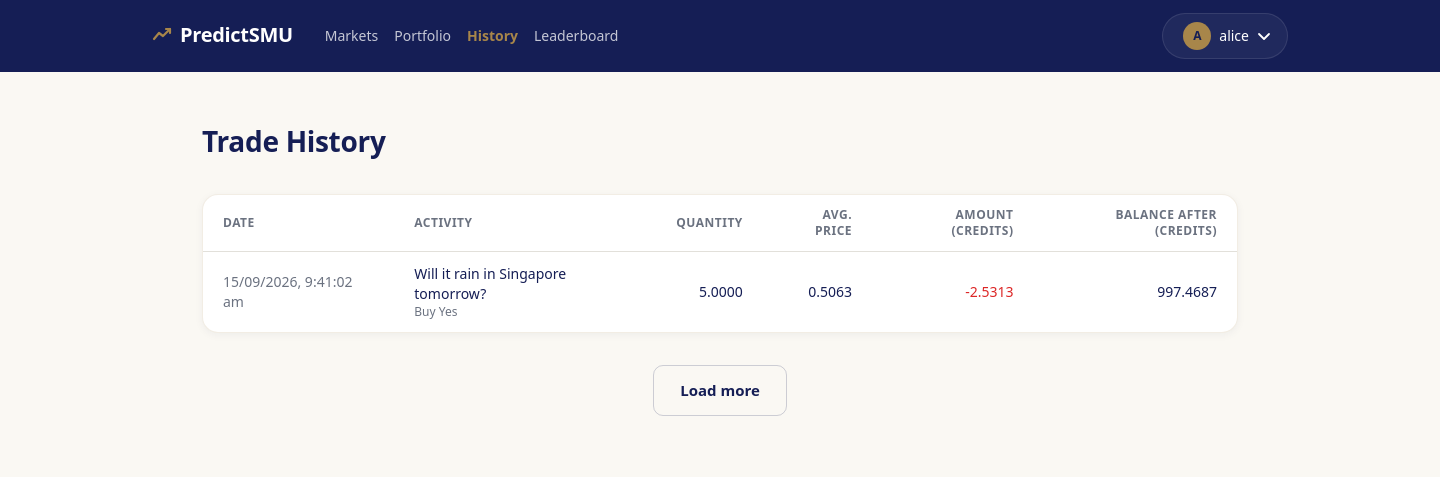
Test: TradeHistoryPage › keeps the rows already shown when loading more fails, and loads them on a retry
Expected: the link "Will it rain in Singapore tomorrow?" is shown, [414,264,566,303]
Click the button "Load more". click: (720, 390)
box: [653,365,787,416]
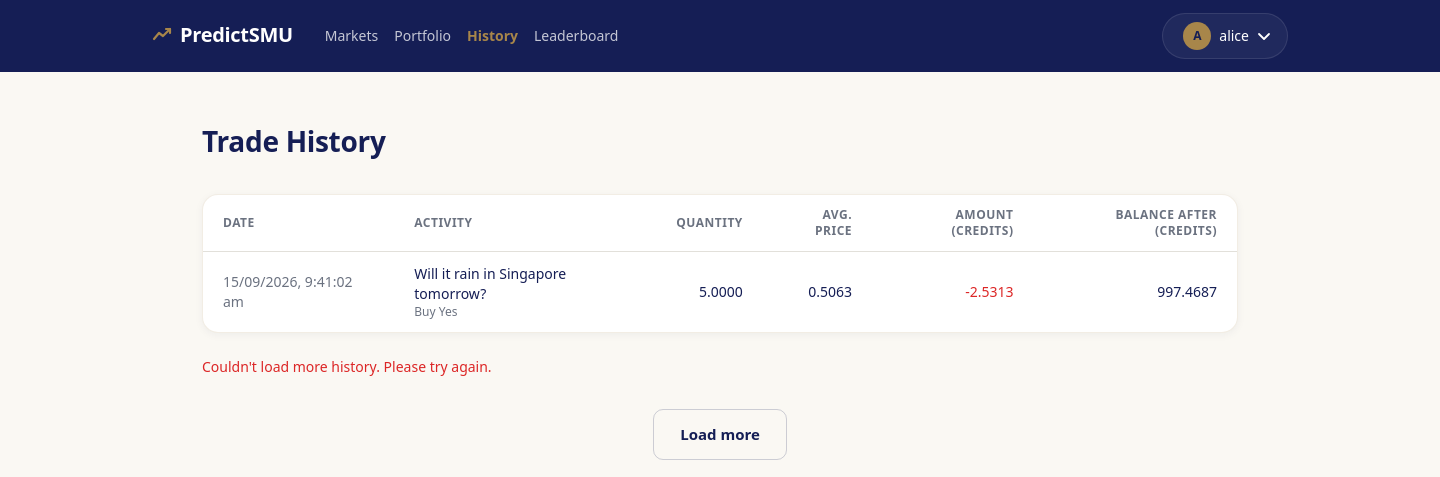
Expected: the link "Will it rain in Singapore tomorrow?" is shown, [414,264,566,303]
Expected: the message shows "Couldn't load more history", [202,357,492,376]
Click the button "Load more". click: (720, 434)
box: [653,409,787,460]
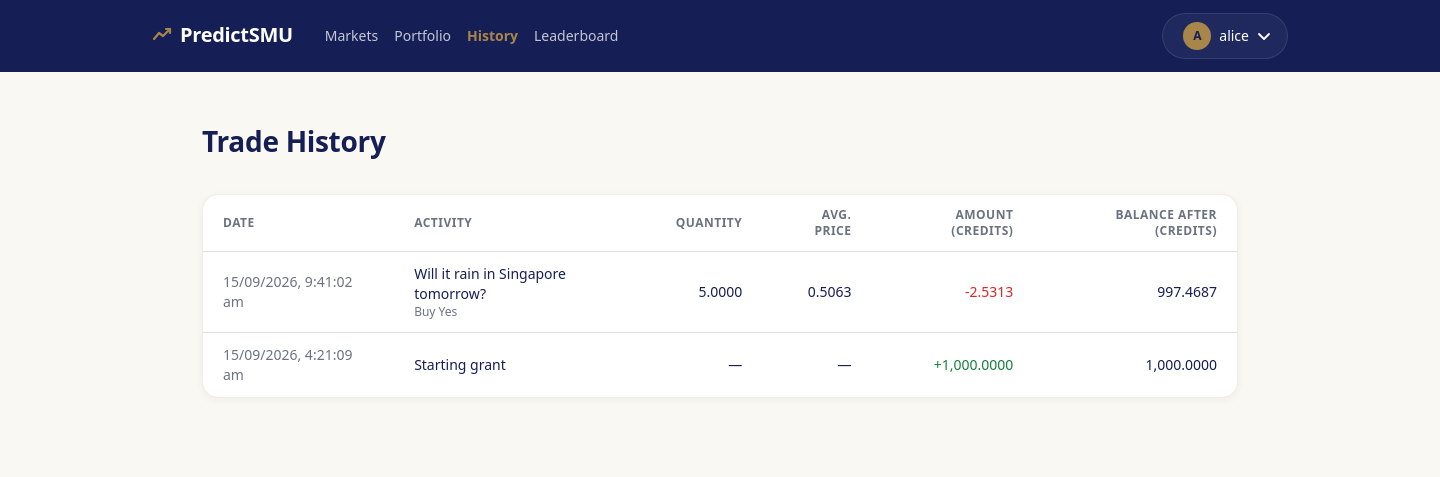
Expected: the text "Starting grant" is shown, [414,355,506,374]
Expected: the message "Couldn't load more history. Please try again." is gone
